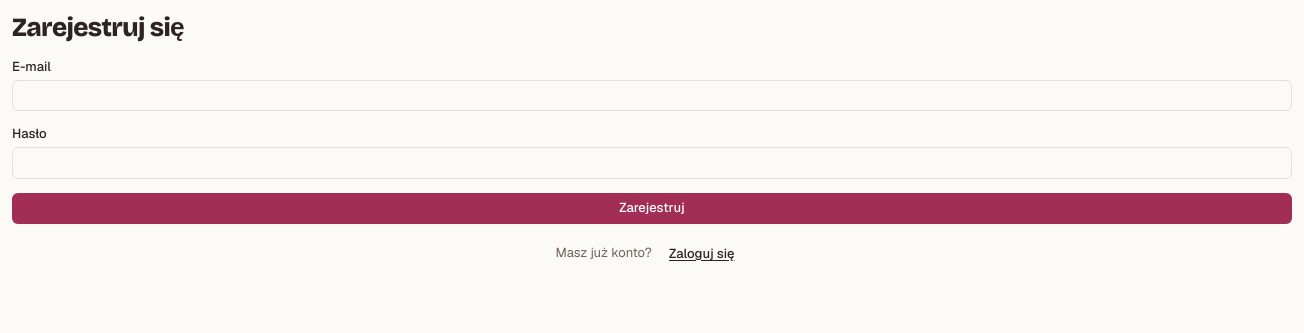
Test: auth submit paths › signup failure does not reveal that the account exists
Step 1. Type "a@b.pl" into the field labelled "E-mail" → (652, 95), box [12,80,1292,111]
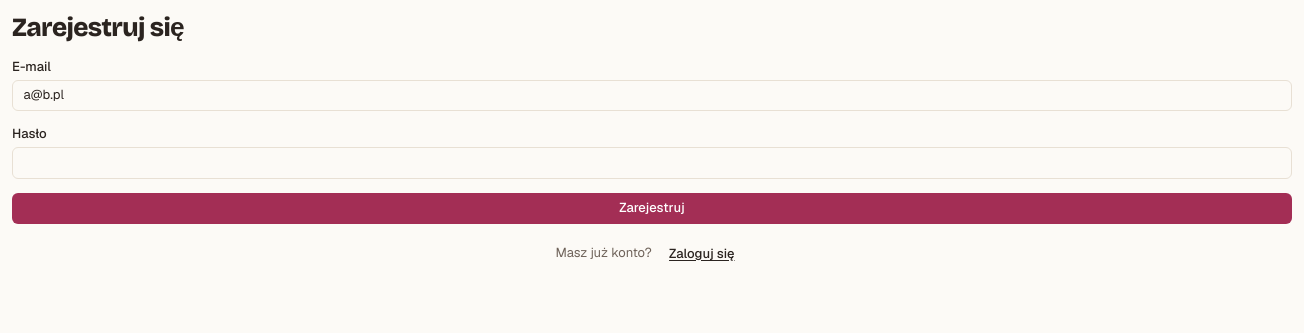
Step 2. Type "secret1" into the password field labelled "Hasło" → (652, 163), box [12,147,1292,179]
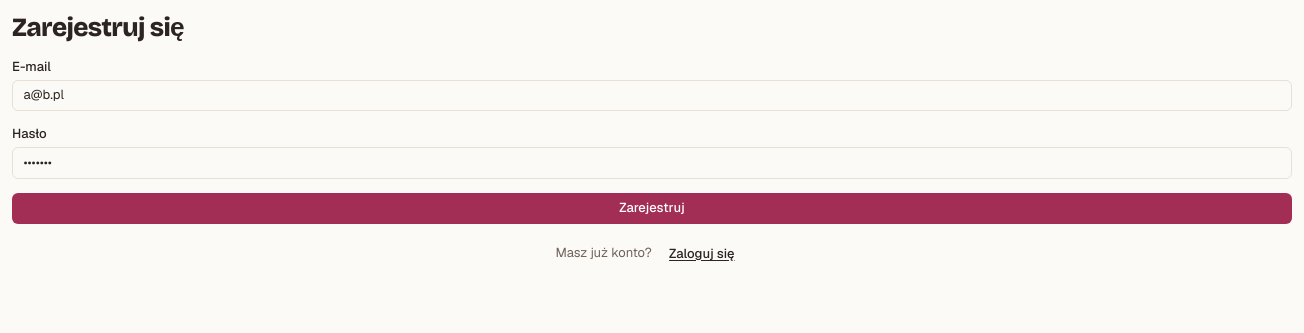
Step 3. Submit the form
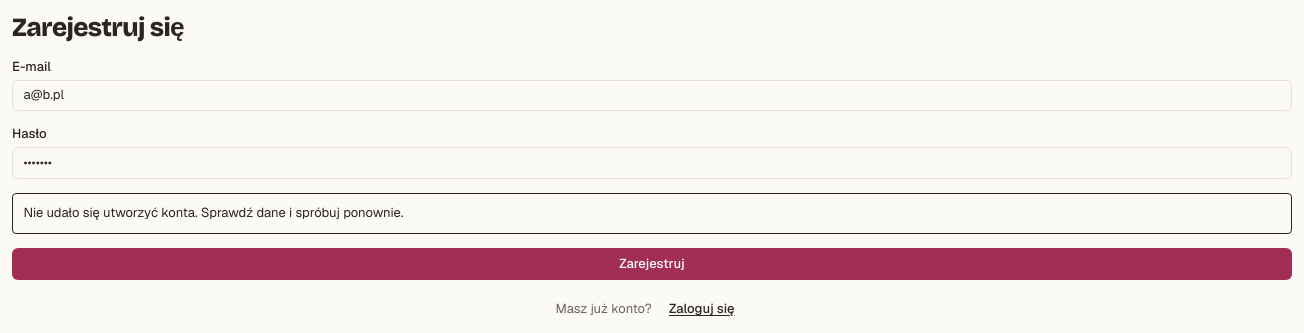
Expected: the message shows "Nie udało się utworzyć konta", [24,204,403,221]
